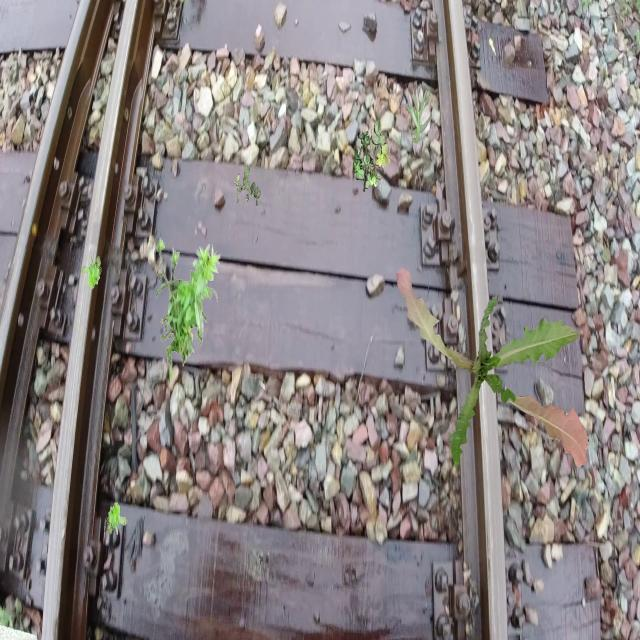Plant: (396, 267, 588, 470), (156, 236, 220, 379), (353, 119, 390, 192), (406, 88, 432, 144), (234, 165, 262, 206), (81, 256, 102, 289), (107, 502, 128, 535)
